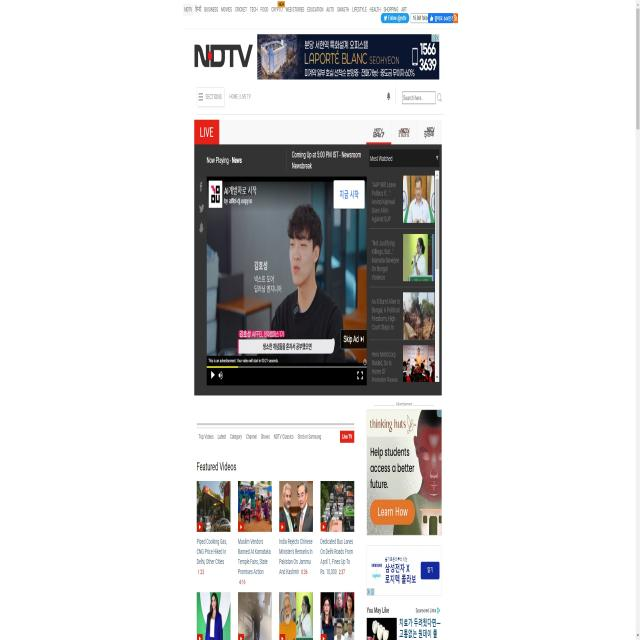control-bar: (207, 365, 367, 382)
menu-bar: (196, 1, 408, 21)
search: (399, 90, 442, 107)
tab-bar: (196, 422, 357, 448), (365, 120, 436, 146)
